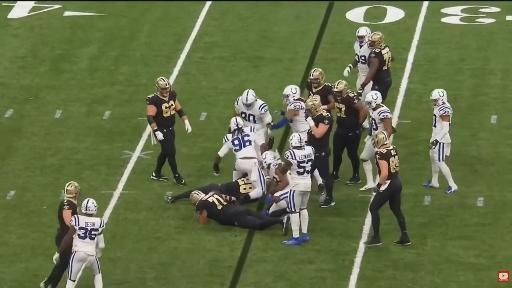Helmet: (305, 95, 322, 117), (283, 85, 300, 104), (155, 77, 170, 97), (372, 131, 389, 148), (365, 91, 382, 108), (262, 151, 278, 169), (309, 68, 324, 87), (431, 89, 447, 106), (64, 182, 80, 198), (356, 27, 371, 44), (333, 80, 348, 97), (368, 32, 383, 48), (289, 133, 305, 148), (242, 90, 256, 107), (82, 199, 97, 214), (190, 191, 205, 204), (230, 117, 243, 131), (265, 176, 272, 186)
Jersey: (218, 127, 262, 158), (71, 215, 105, 255), (195, 192, 235, 224), (285, 146, 314, 190), (235, 96, 271, 130), (147, 90, 176, 128), (335, 90, 359, 132), (308, 111, 333, 150), (431, 102, 452, 141), (375, 146, 399, 180), (369, 45, 391, 82), (287, 101, 309, 133), (58, 199, 77, 234), (220, 177, 253, 197), (306, 82, 332, 105), (371, 105, 392, 133), (354, 42, 371, 75), (269, 160, 282, 183)
Player: (365, 131, 410, 245), (147, 77, 191, 185), (190, 191, 289, 234), (214, 117, 266, 198), (59, 199, 105, 287), (333, 80, 367, 185), (284, 134, 315, 245), (424, 89, 457, 193), (360, 91, 393, 190), (306, 97, 334, 207), (232, 90, 274, 149), (358, 32, 392, 101), (166, 177, 253, 203), (274, 85, 309, 138), (263, 151, 290, 217), (55, 182, 81, 247), (344, 27, 371, 88), (344, 27, 371, 87), (306, 68, 334, 111)
